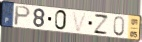0: (54, 10, 68, 32), (113, 16, 126, 37)
8: (32, 8, 46, 29)
P: (13, 5, 32, 27)
V: (71, 11, 88, 34)
Z: (93, 13, 111, 36)
